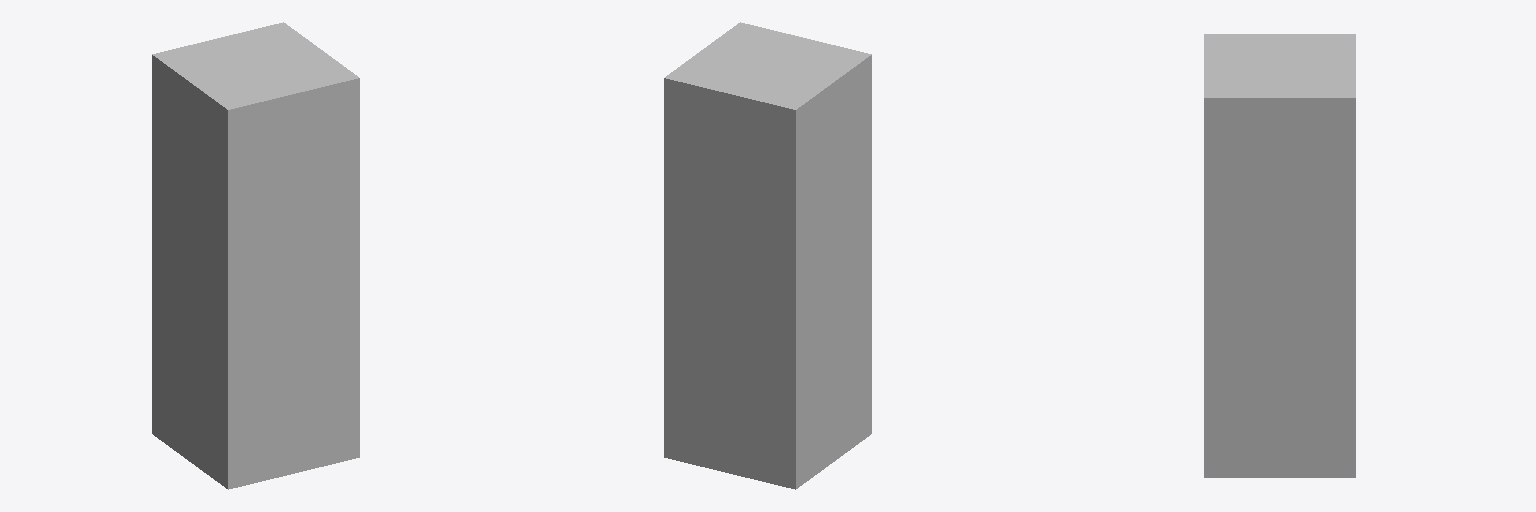
The model's file is spraycan_glow.obj.
3 renders of one model, left to right at view 1: azimuth 30°, elevation 25°; view 2: azimuth 150°, elevation 25°; view 3: azimuth 270°, elevation 25°, orthographic.
Visible parts, largest first — view 1: can, cap; view 2: can, cap; view 3: can, cap.
Boxes of the visible parts, x1=… form: can: x1=152, y1=158, x2=359, y2=489; cap: x1=152, y1=22, x2=359, y2=213; can: x1=664, y1=158, x2=871, y2=489; cap: x1=664, y1=22, x2=871, y2=213; can: x1=1204, y1=202, x2=1355, y2=477; cap: x1=1204, y1=34, x2=1355, y2=201.
Size of the model in its own units: 0.25 by 0.6875 by 0.25.